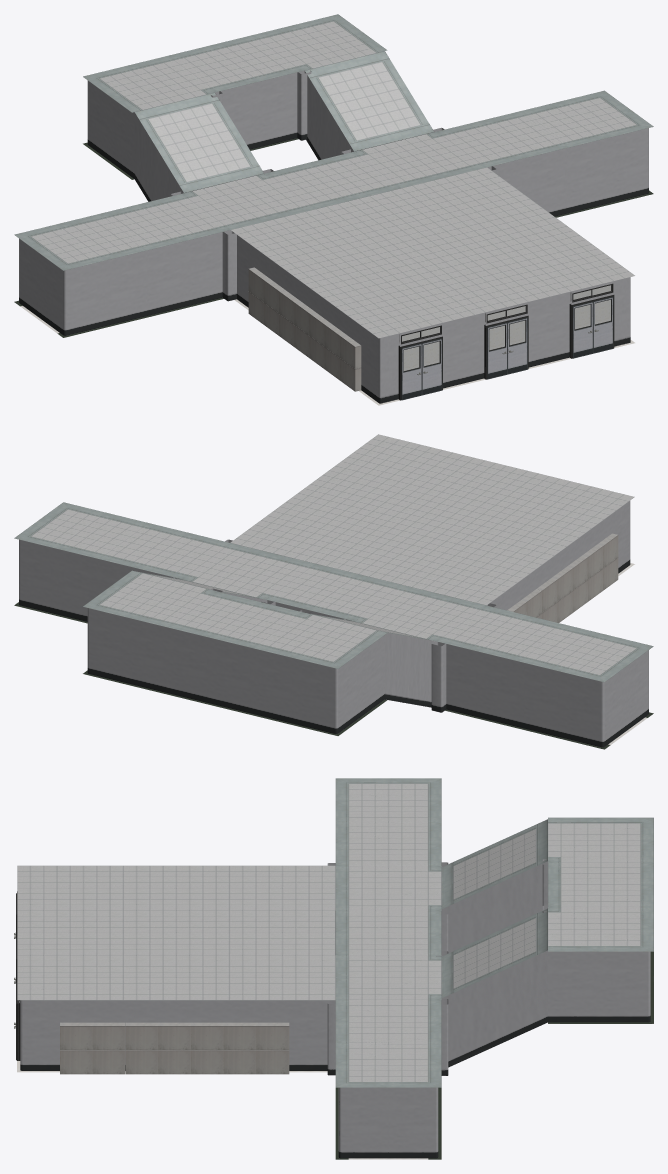
Rendered from FirstSchool RECREATION.fbx.
The picture shows the model from 3 angles, top to bottom: view 1: azimuth 30°, elevation 25°; view 2: azimuth 150°, elevation 25°; view 3: azimuth 270°, elevation 25°; orthographic projection. The views are drawn at different scales.
Parts seen in each view (by area): view 1: Stairs_StairWell_Half, Stairs_StairWell_HalfLeft, Lockers.001, WallRight2, WallUpper2, Ceiling, Ceiling.006, Ceiling_I, Wall_L_Half_Right4, Ceiling.005, Ceiling_Right, Ceiling.003 (+36 smaller); view 2: Wall_Right, WallUpper, Wall_Left, WallRight, Lockers.001, Ceiling, Wall_L_Half_Right3, Ceiling.006, Ceiling_I, Ceiling.005, Ceiling_Right, Ceiling_U_Left (+24 smaller); view 3: Lockers.006, Stairs_StairWell_HalfLeft, Stairs_StairWell_Half, Wall_Left, Ceiling_I, Ceiling.003, Ceiling.004, Ceiling.001, Ceiling.002, Ceiling.007, Ceiling.008, Ceiling (+20 smaller).
Boxes of the visible parts, x1,y1,x2,y2 form: Stairs_StairWell_Half: [134, 92, 263, 201]; Stairs_StairWell_HalfLeft: [304, 51, 433, 160]; Lockers.001: [248, 267, 361, 391]; WallRight2: [147, 230, 229, 315]; WallUpper2: [215, 71, 300, 149]; Ceiling: [366, 224, 499, 281]; Ceiling.006: [415, 260, 549, 317]; Ceiling_I: [267, 152, 401, 208]; Wall_L_Half_Right4: [41, 255, 104, 335]; Ceiling.005: [316, 188, 450, 245]; Ceiling_Right: [83, 56, 216, 112]; Ceiling.003: [402, 167, 536, 224]; Wall_Right: [254, 635, 384, 734]; WallUpper: [169, 628, 255, 713]; Wall_Left: [87, 608, 169, 693]; WallRight: [438, 642, 523, 728]; Lockers.001: [507, 533, 618, 622]; Ceiling: [365, 491, 499, 548]; Wall_L_Half_Right3: [563, 666, 626, 747]; Ceiling.006: [415, 455, 548, 511]; Ceiling_I: [266, 564, 400, 620]; Ceiling.005: [316, 527, 450, 584]; Ceiling_Right: [253, 612, 386, 668]; Ceiling_U_Left: [14, 502, 148, 559]; Lockers.006: [60, 1022, 289, 1074]; Stairs_StairWell_HalfLeft: [441, 908, 547, 1067]; Stairs_StairWell_Half: [441, 819, 547, 953]; Wall_Left: [548, 951, 650, 1022]; Ceiling_I: [335, 910, 441, 955]; Ceiling.003: [229, 955, 335, 1000]; Ceiling.004: [229, 865, 335, 910]; Ceiling.001: [123, 865, 229, 910]; Ceiling.002: [123, 955, 229, 1000]; Ceiling.007: [17, 865, 123, 910]; Ceiling.008: [17, 955, 123, 1000]; Ceiling: [123, 910, 229, 955].
Bounding box in the file's own units: 27601 × 5031 × 24122.
